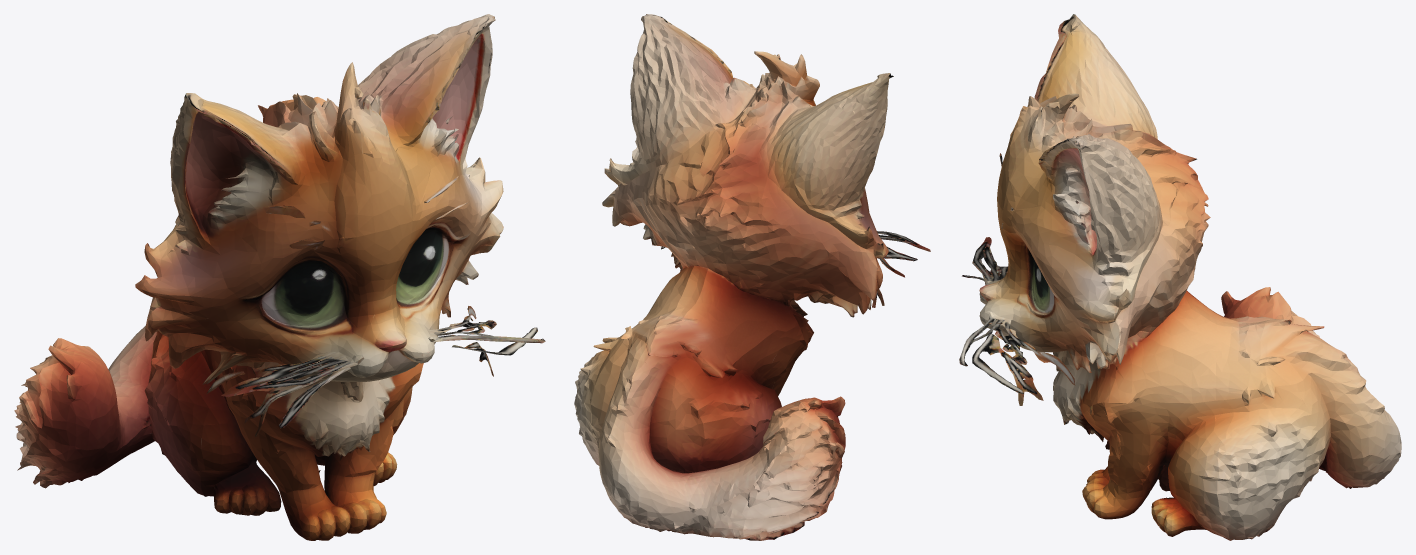
File: Cat_06.glb
3 views of the same model, side by side, from view 1: azimuth 30°, elevation 25°; view 2: azimuth 150°, elevation 25°; view 3: azimuth 270°, elevation 25° (orthographic). The views are drawn at different scales.
Visible parts, largest first — view 1: world; view 2: world; view 3: world.
Part boxes in pixels (x1,y1,x2,y2): world: (14, 14, 545, 540); world: (574, 14, 930, 540); world: (959, 14, 1401, 540).
Bounding box in the file's own units: 0.8184 × 0.9968 × 0.9455.
1 material, 1 textured.
